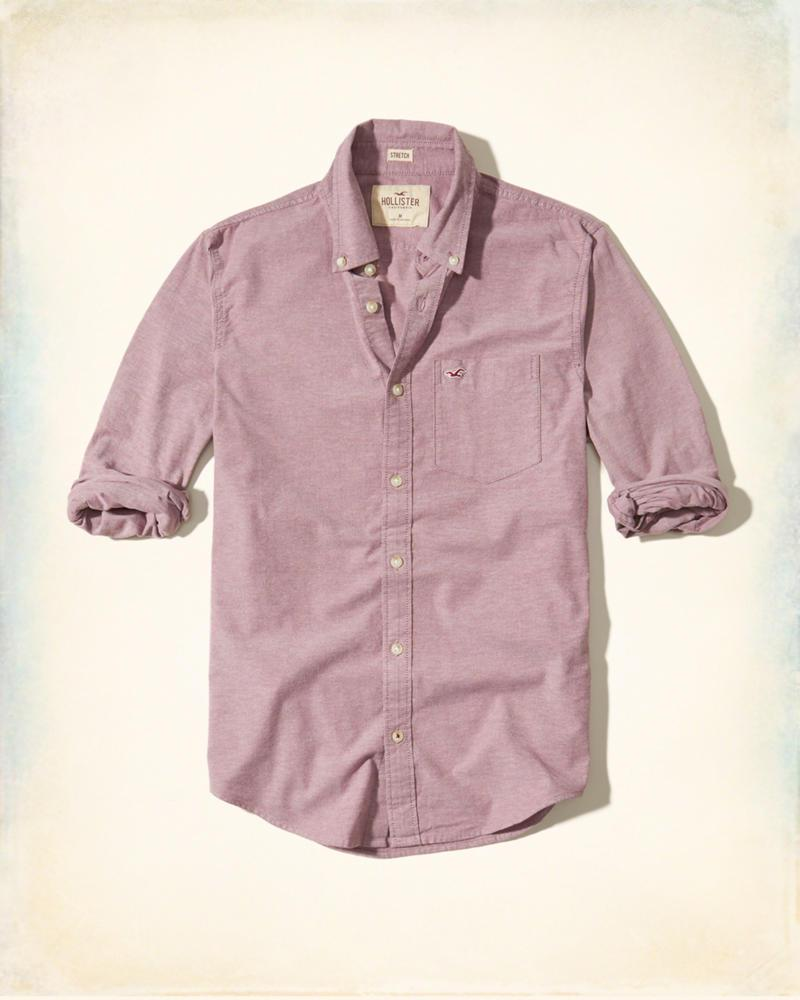teeshirt: (79, 106, 735, 889)
